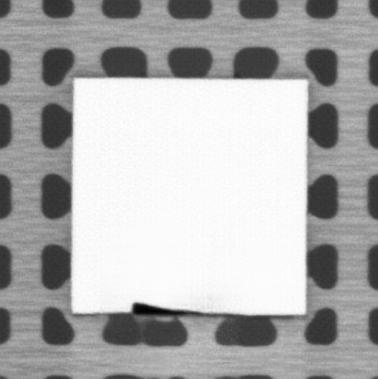DIE_BROKEN: (132, 301, 200, 317)
